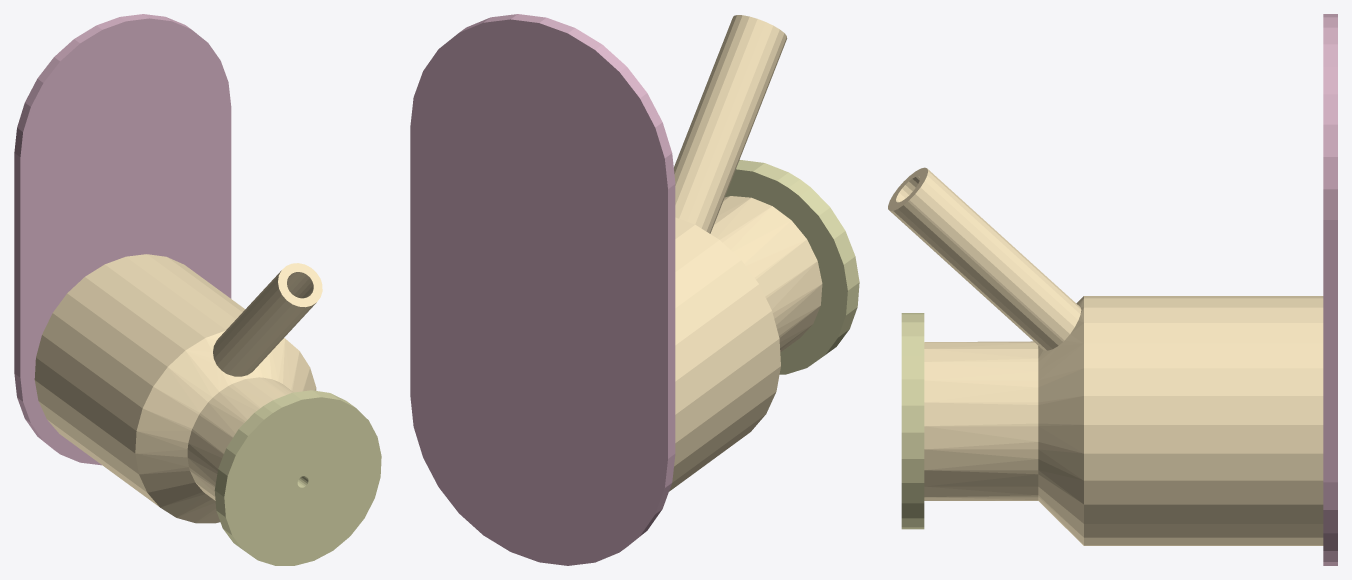
File: fuel_container_subassembly.glb
3 views of the same model, side by side, from view 1: azimuth 30°, elevation 25°; view 2: azimuth 150°, elevation 25°; view 3: azimuth 270°, elevation 25° (orthographic). The views are drawn at different scales.
Visible parts, largest first — view 1: Node1; view 2: Node1; view 3: Node1.
Part boxes in pixels (left/top/right/bottom): Node1: left=14, top=14, right=381, bottom=565; Node1: left=410, top=14, right=859, bottom=565; Node1: left=888, top=14, right=1337, bottom=565.
Size of the model in its own units: 25.4 by 50.8 by 39.45.
